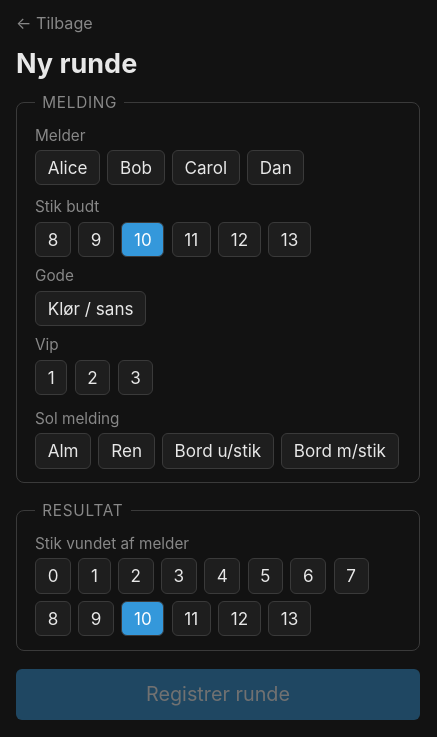
Round screen - Frants › Vip > 0 disables Gode in Frants
Step 1. Click the button "1" below "Vip" → (51, 377), box [35,360,67,395]
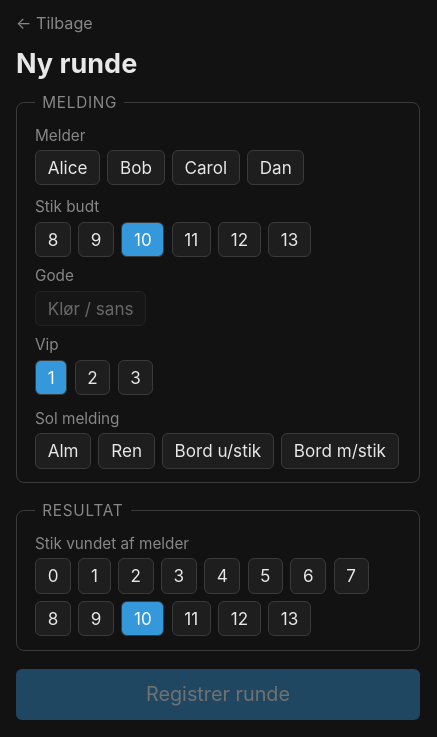
Expected: the button "Klør / sans" is disabled, [35,290,146,326]
